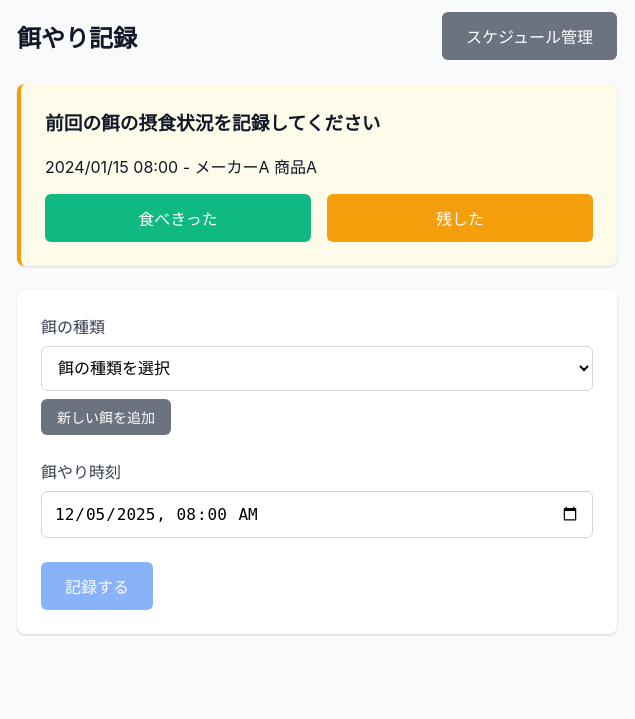
Feeding Record Flow Integration Tests › Error Handling in Complete Flow › should handle API errors during consumption update
Expected: the heading "前回の餌の摂食状況を記録してください" is shown, [45,112,380,135]
Click the button "食べきった". click: (178, 218)
box: [45,194,311,242]
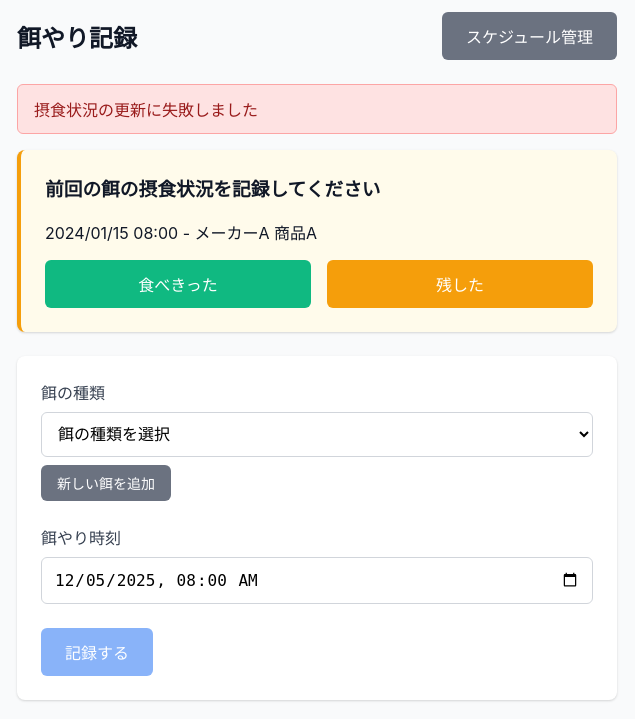
Expected: the text "摂食状況の更新に失敗しました" is shown, [17,84,617,134]
